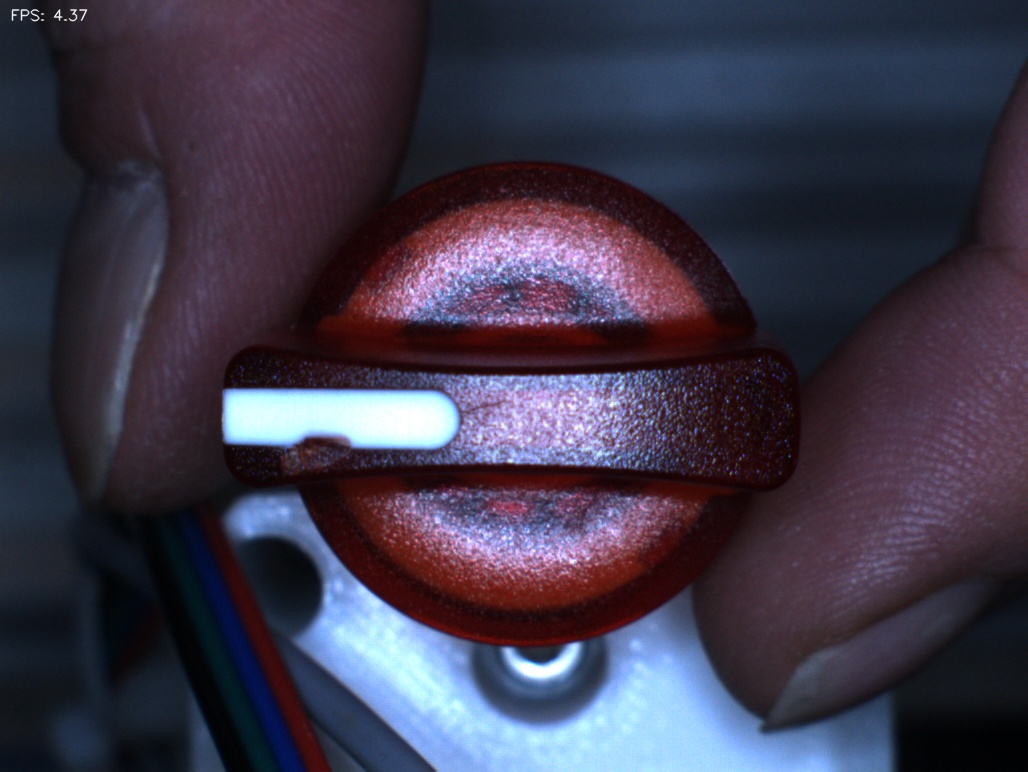Choc: (268, 406, 365, 503)
